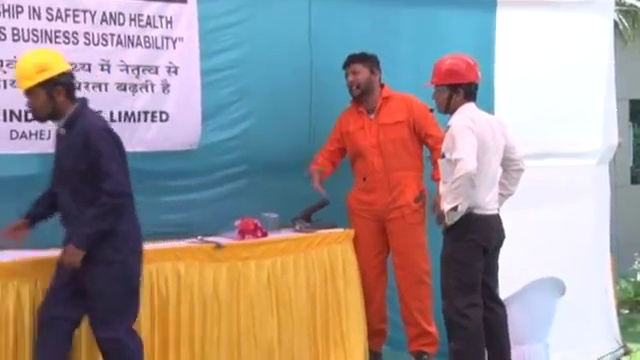helmet: (10, 50, 72, 93), (424, 53, 484, 89)
helmet_off: (343, 51, 387, 106)
helmet_on: (11, 50, 81, 127), (423, 53, 486, 116)
person: (2, 49, 143, 360), (310, 50, 448, 360), (422, 52, 526, 360)
